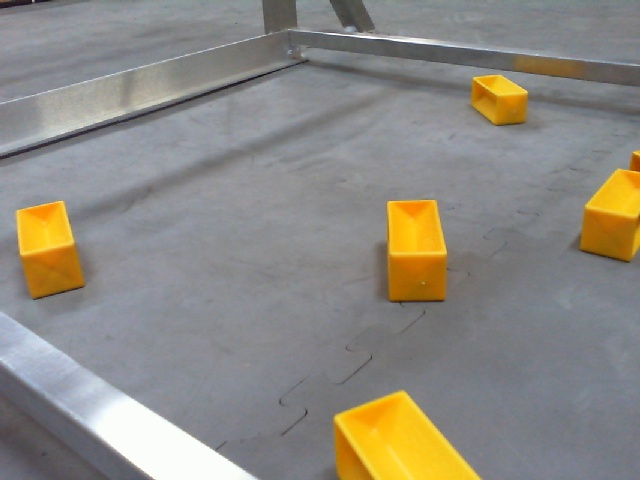YellowSample: (328, 391, 486, 480), (380, 194, 453, 307), (9, 199, 88, 303), (578, 164, 640, 266), (466, 70, 532, 131), (625, 148, 640, 170)
